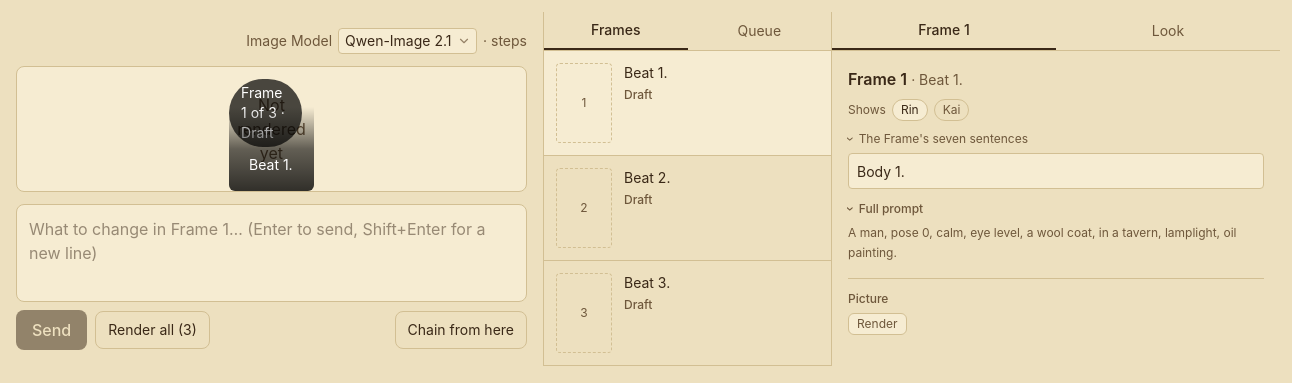
Test: StoryboardView › edits a Frame by Action, keeping a declined Action to reword
The width and height of the screenshot is (1292, 383).
Step 1. Replace the text in the 2nd text box with "make him twelve" → (272, 253), box x1=16 y1=204 x2=527 y2=302
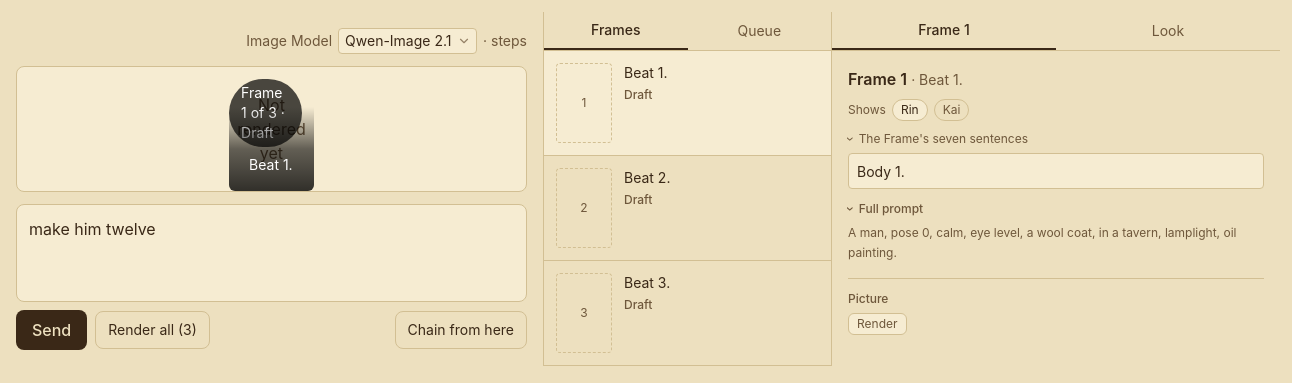
Step 2. Click the button "Send" → (52, 330), box x1=16 y1=310 x2=87 y2=350
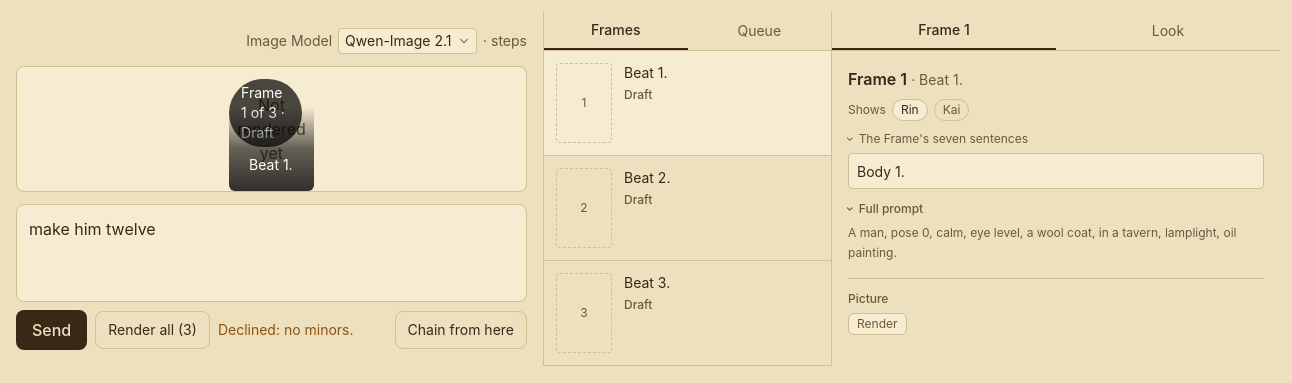
Check: the message "Declined: no minors." is shown, box x1=218 y1=321 x2=354 y2=338
